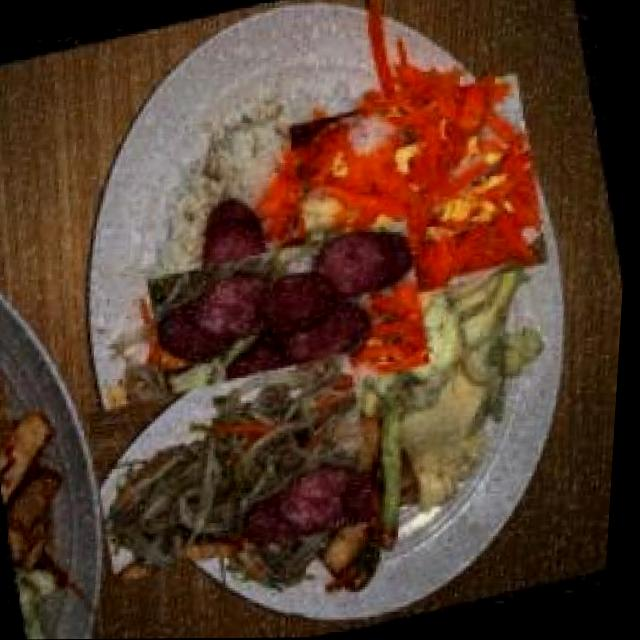carrot_eggs: (288, 65, 560, 326)
chinese_sausage: (164, 197, 426, 449)
mung_bean_sprouts: (100, 336, 377, 602)
rice: (139, 86, 291, 232)
